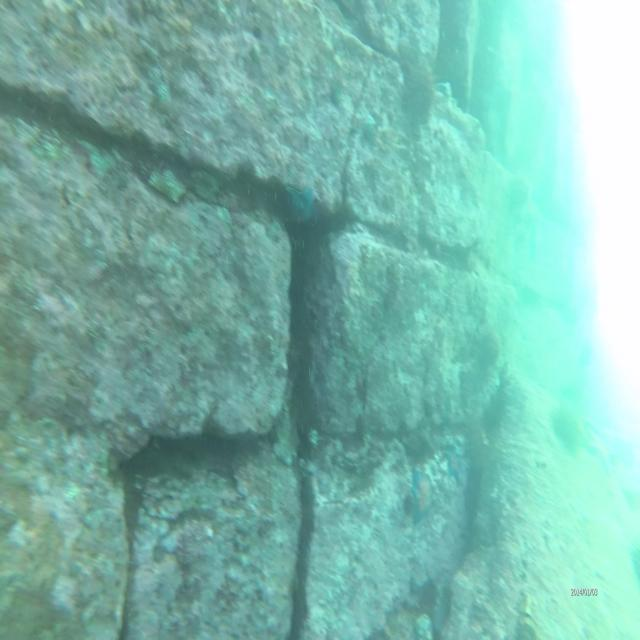echinus: (402, 48, 438, 124)
starfish: (282, 174, 318, 229), (408, 461, 436, 524), (441, 438, 467, 488)
